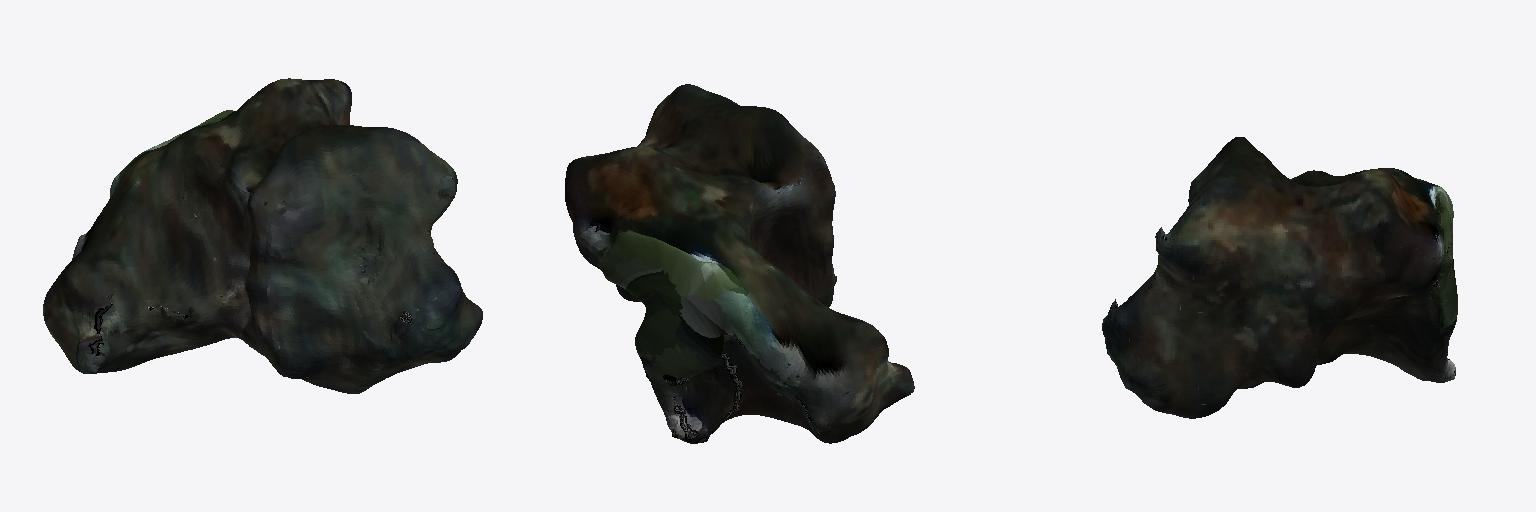
The picture shows the model from 3 angles: view 1: azimuth 30°, elevation 25°; view 2: azimuth 150°, elevation 25°; view 3: azimuth 270°, elevation 25°; orthographic projection.
Size of the model in its own units: 63.51 by 47.73 by 60.3.
Materials: 2 (2 with a texture image).